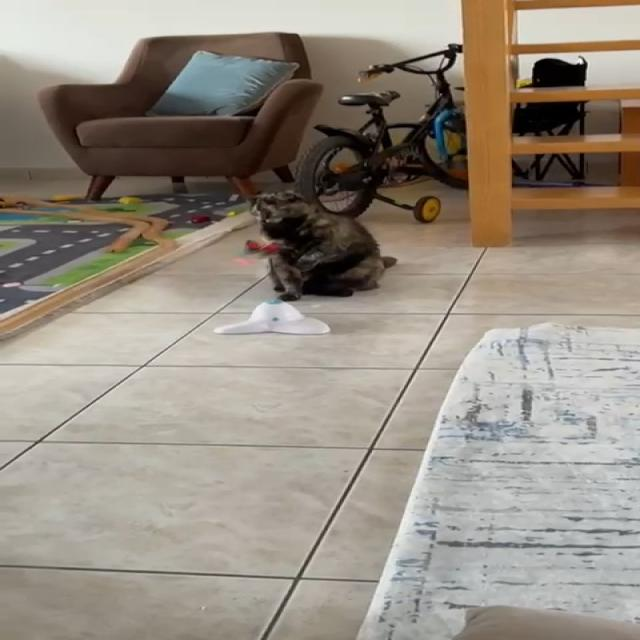authorized: (245, 189, 398, 300)
